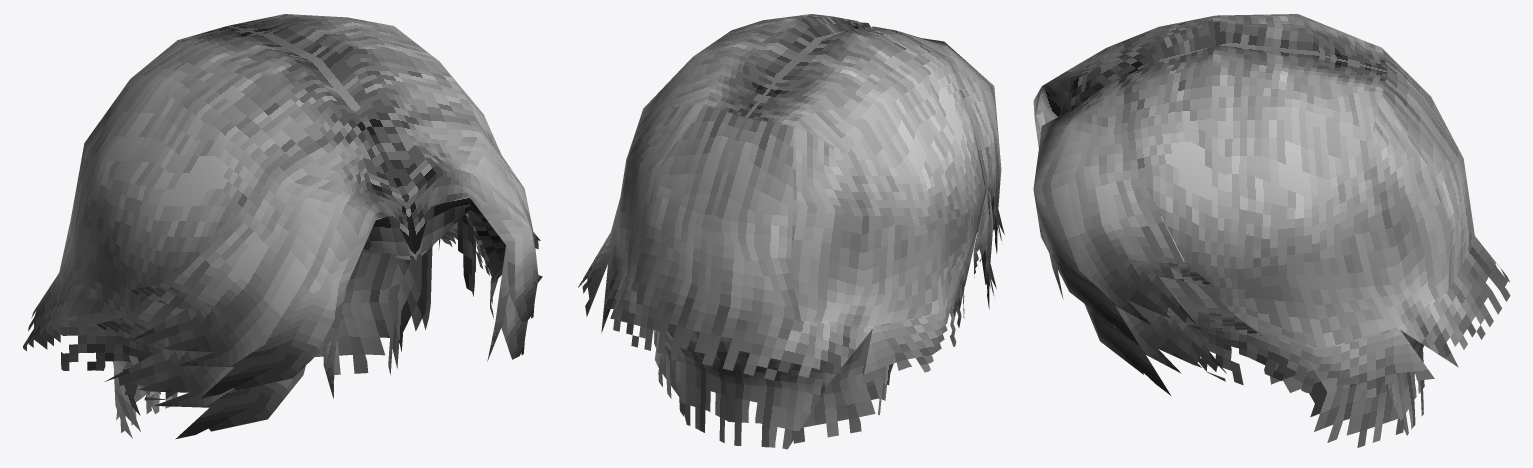
Rendered from m_head021.glb.
3 views of the same model, side by side, from view 1: azimuth 30°, elevation 25°; view 2: azimuth 150°, elevation 25°; view 3: azimuth 270°, elevation 25° (orthographic). The views are drawn at different scales.
Size of the model in its own units: 22.38 by 21.51 by 24.62.
Materials: 1 (1 with a texture image).
